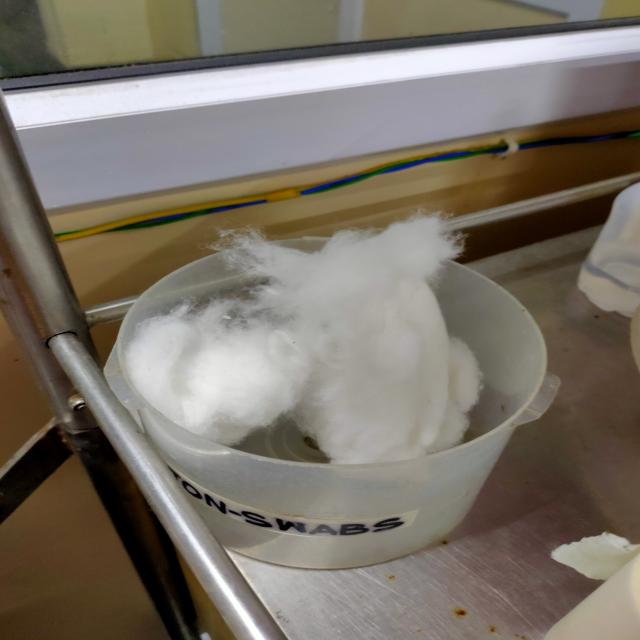B3: (122, 206, 484, 474)
